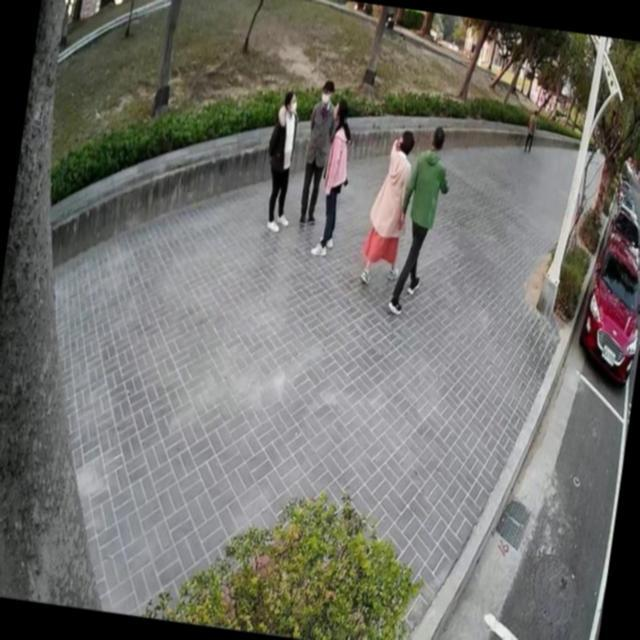person: (382, 114, 460, 322), (354, 120, 420, 293), (307, 91, 363, 260), (255, 84, 308, 236), (294, 73, 343, 231), (522, 106, 542, 155)
